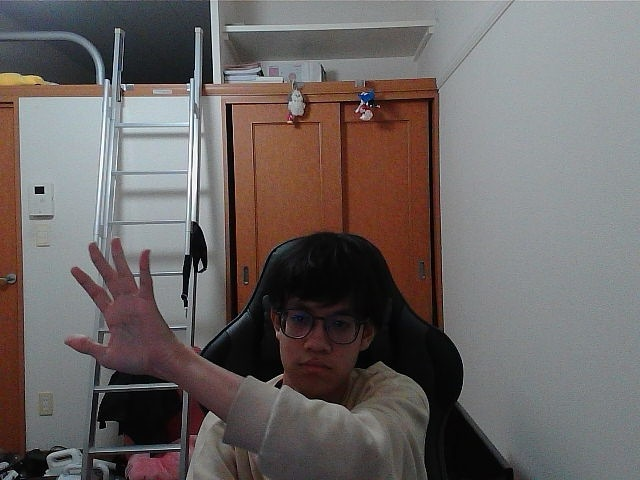open_palm: (73, 243, 153, 366)
